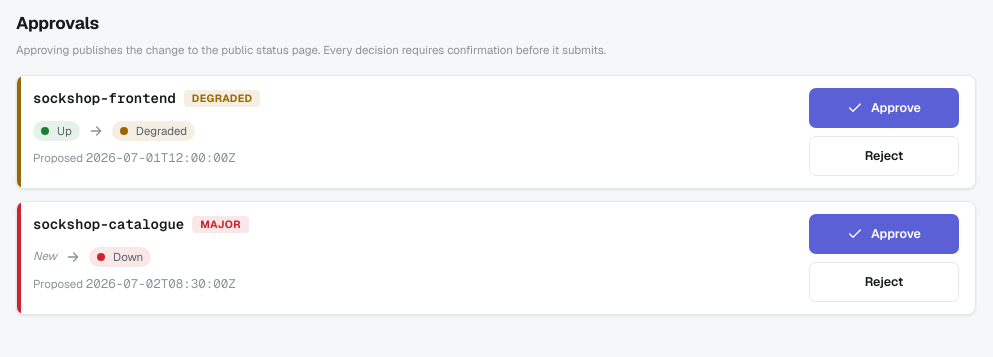
it: ApprovalsPage › requires confirmation before POSTing an approve, then refreshes the list on success (AC2)
The image size is (993, 357).
Step 1. Click the button "Approve" in the row of "sockshop-frontend" → (884, 108), box [809,88,959,128]
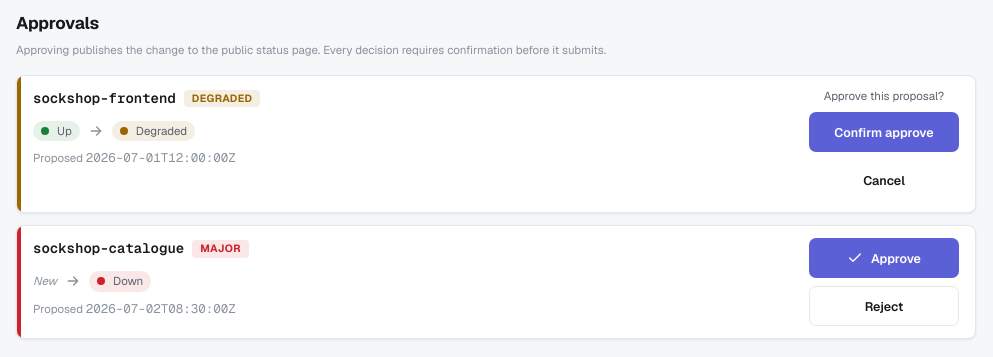
Step 2. Click the button "Confirm approve" → (884, 132), box [809,112,959,152]
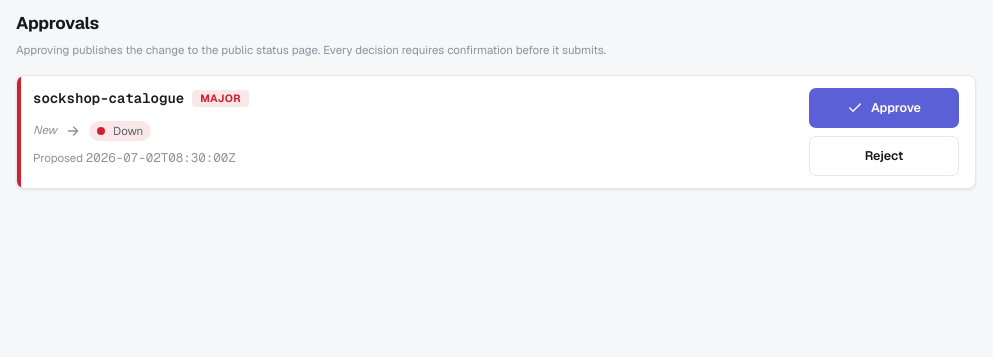
Result: the text "sockshop-frontend" is gone
